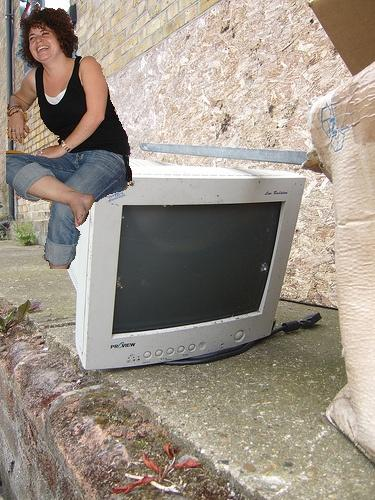tampered: (7, 3, 132, 269)
